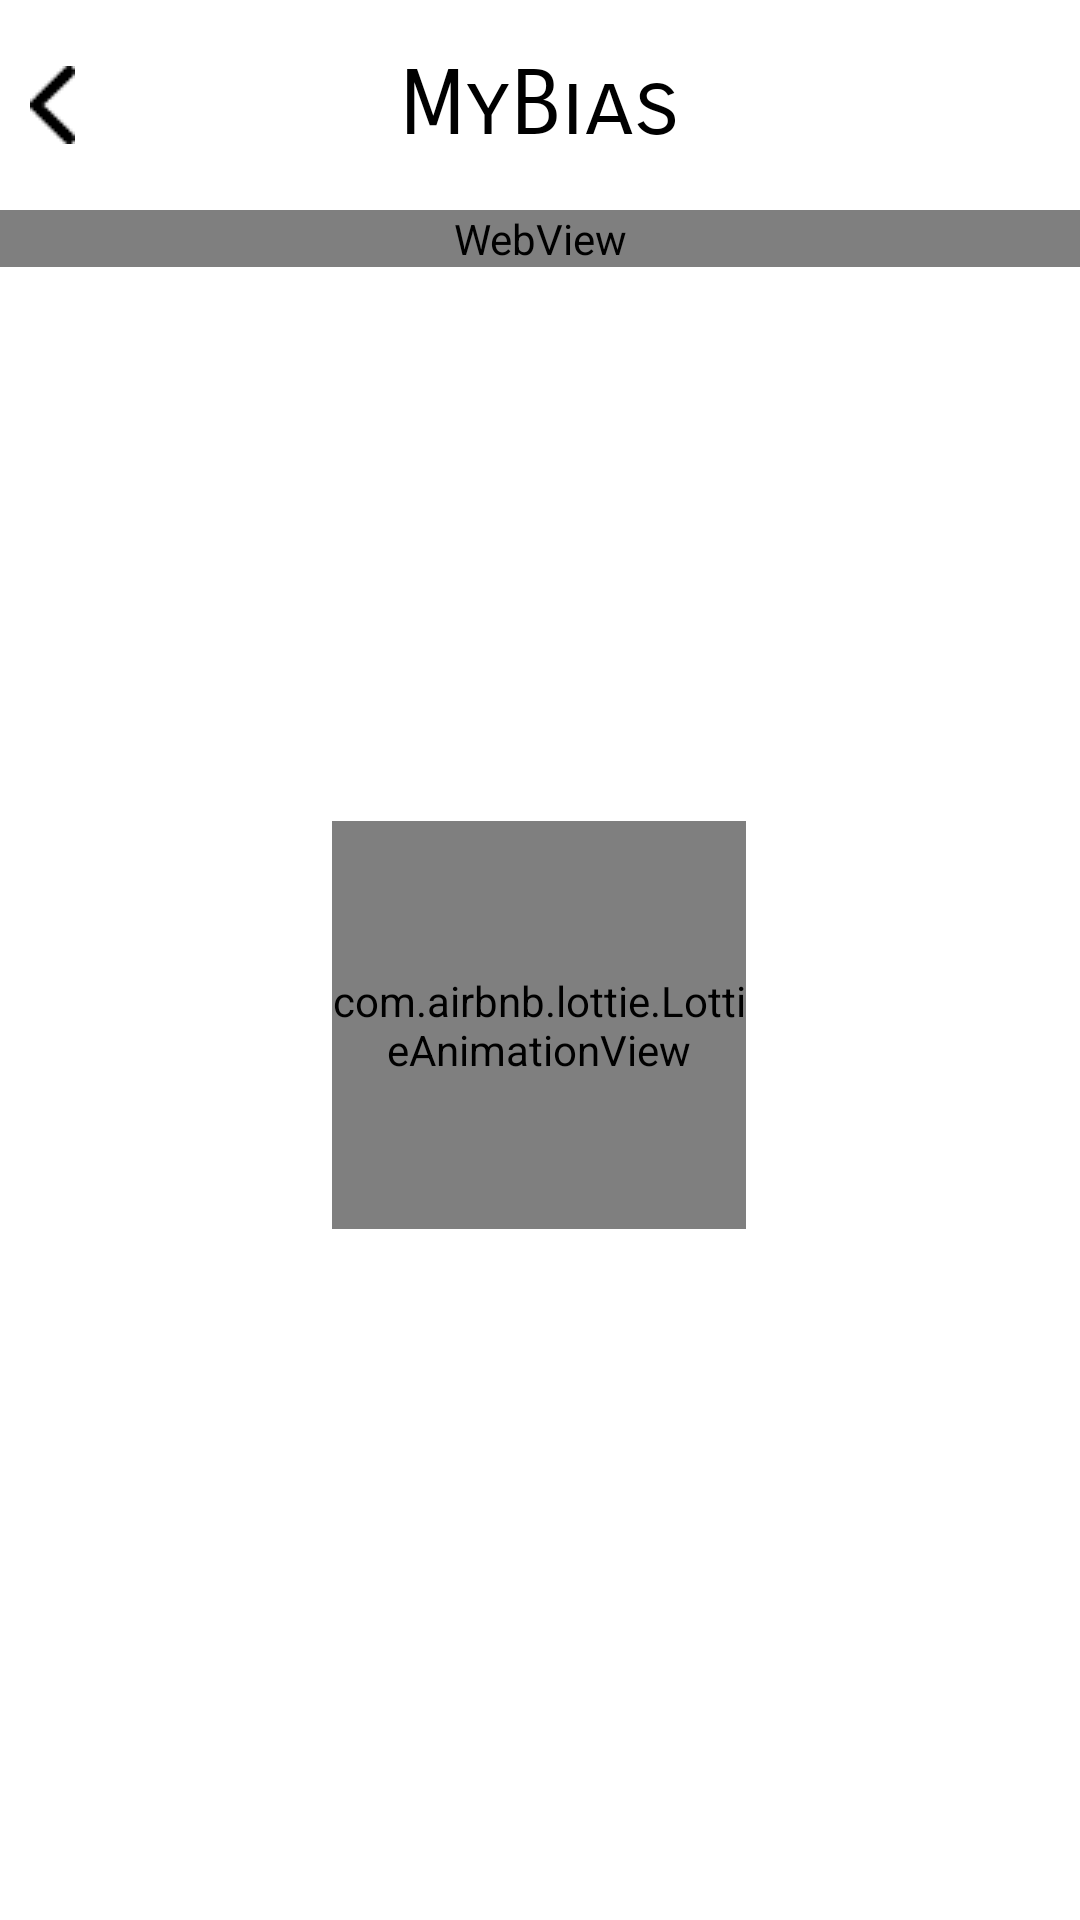

Named icons in this screenshot (1080 x 1920) and their centers, point (x, y):
back: point (52, 105)
